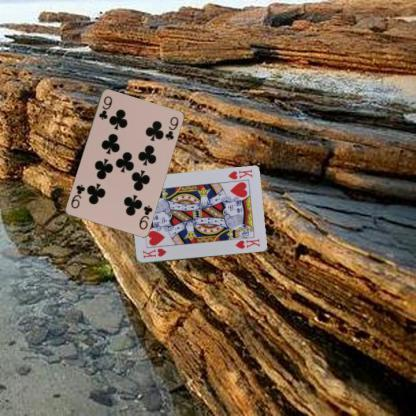9c: (136, 202, 154, 231), (96, 93, 113, 121)
Kh: (140, 245, 168, 260), (225, 167, 254, 181)
